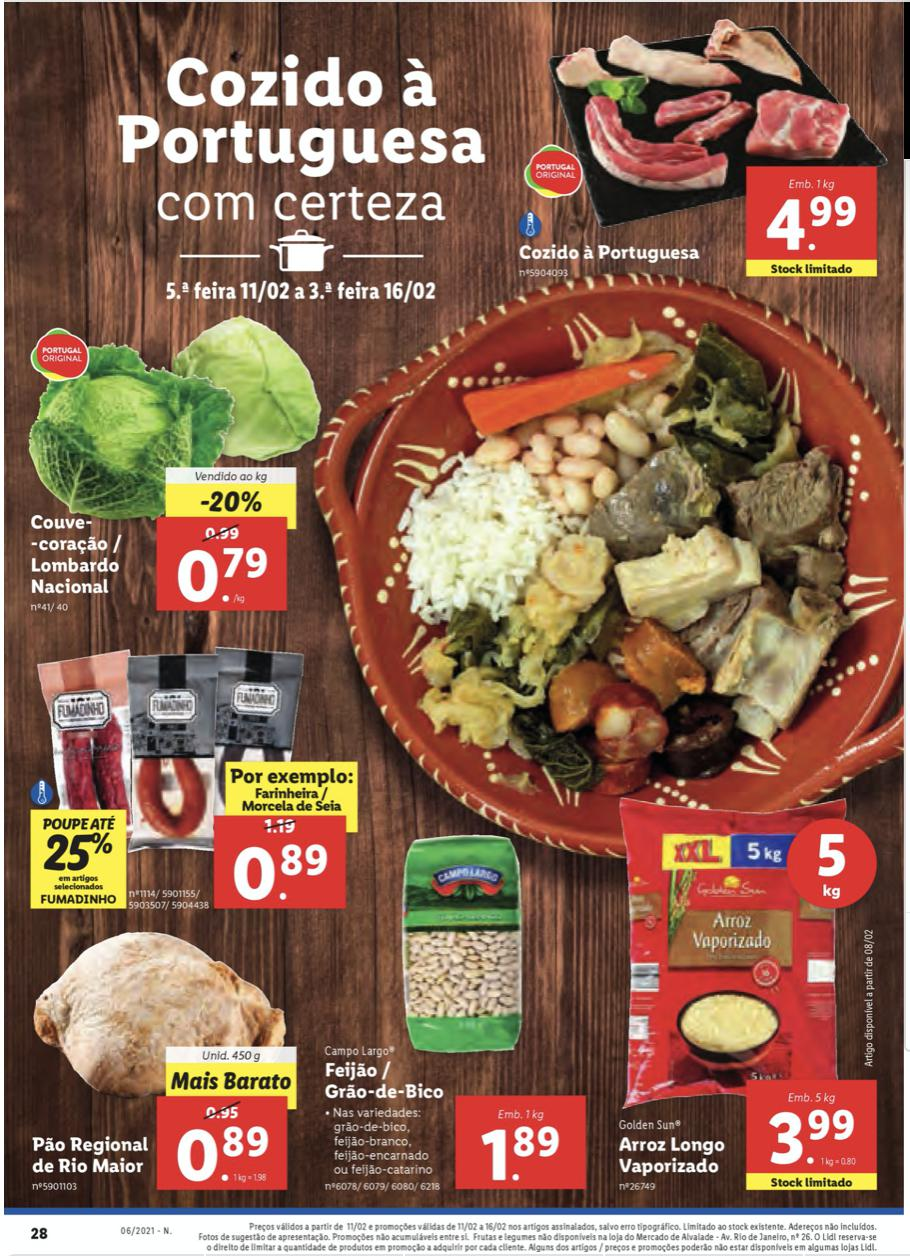name: (19, 508, 125, 596), (323, 1055, 447, 1102), (612, 1136, 733, 1177), (26, 1137, 153, 1174), (517, 241, 711, 264)
price: (745, 164, 878, 261), (453, 1097, 584, 1185), (155, 519, 284, 607), (212, 818, 340, 905), (747, 1083, 873, 1171), (157, 1102, 281, 1186)
product: (614, 786, 899, 1211), (322, 819, 606, 1205), (508, 13, 899, 291), (14, 639, 386, 927), (13, 313, 331, 611), (16, 936, 311, 1204)
promotion: (28, 813, 125, 905), (169, 482, 292, 513)
